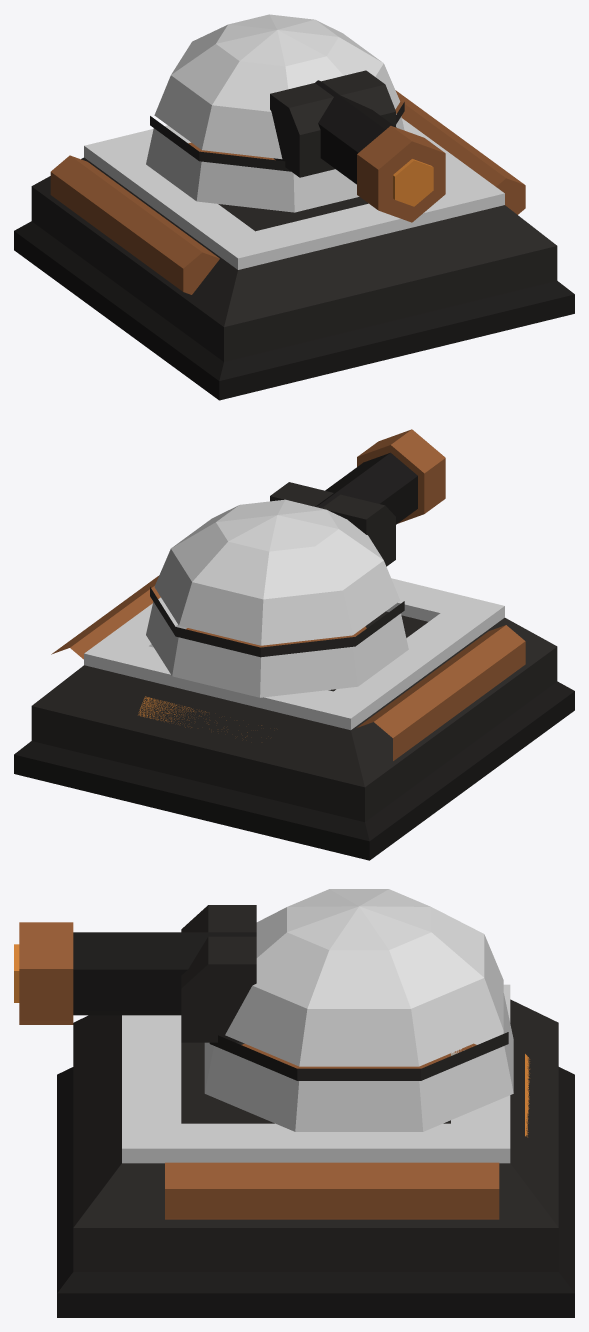
Rendered from str_t1_pd.76b2fe7e.raw.glb.
The picture shows the model from 3 angles, top to bottom: view 1: azimuth 30°, elevation 25°; view 2: azimuth 150°, elevation 25°; view 3: azimuth 270°, elevation 25°; orthographic projection. The views are drawn at different scales.
Visible parts, largest first — view 1: lod0; view 2: lod0; view 3: lod0.
Part boxes in pixels (x1,y1,x2,y2): lod0: [14, 14, 574, 400]; lod0: [14, 429, 574, 860]; lod0: [14, 889, 574, 1317].
Size of what is drawn, in the model's own units: 0.96 by 0.618 by 1.04.
